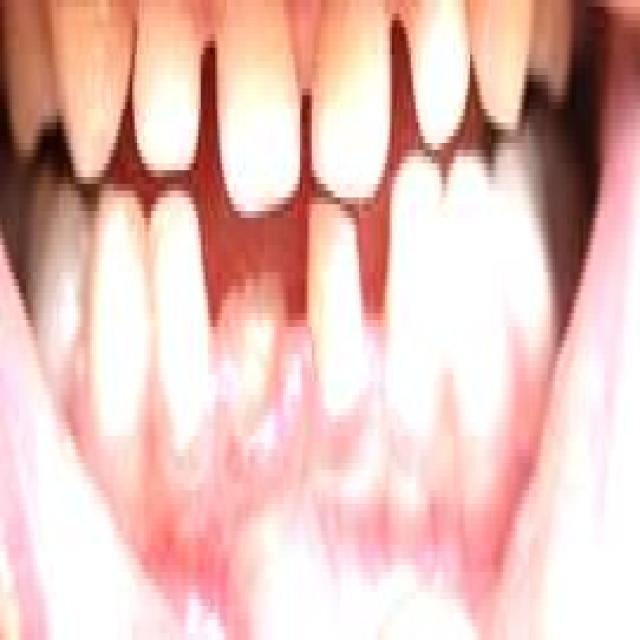caries: (218, 238, 296, 413)
